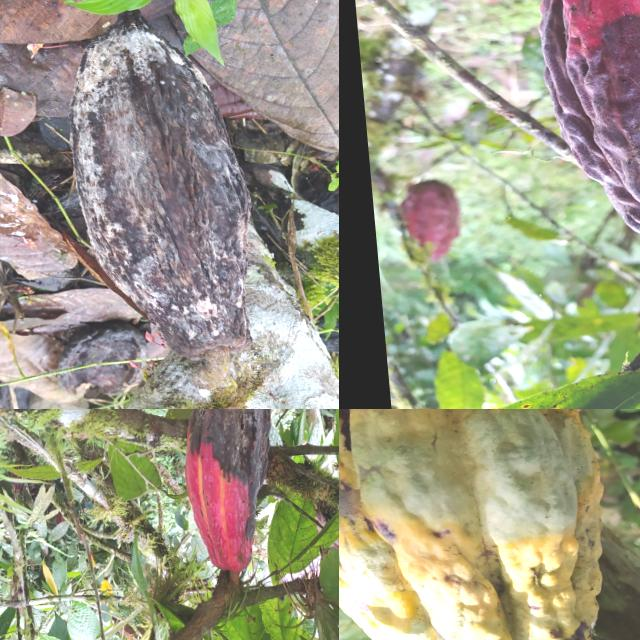Fitoftora: (58, 4, 255, 354), (523, 0, 640, 283), (166, 409, 281, 577)
Monilia: (339, 409, 614, 640)
